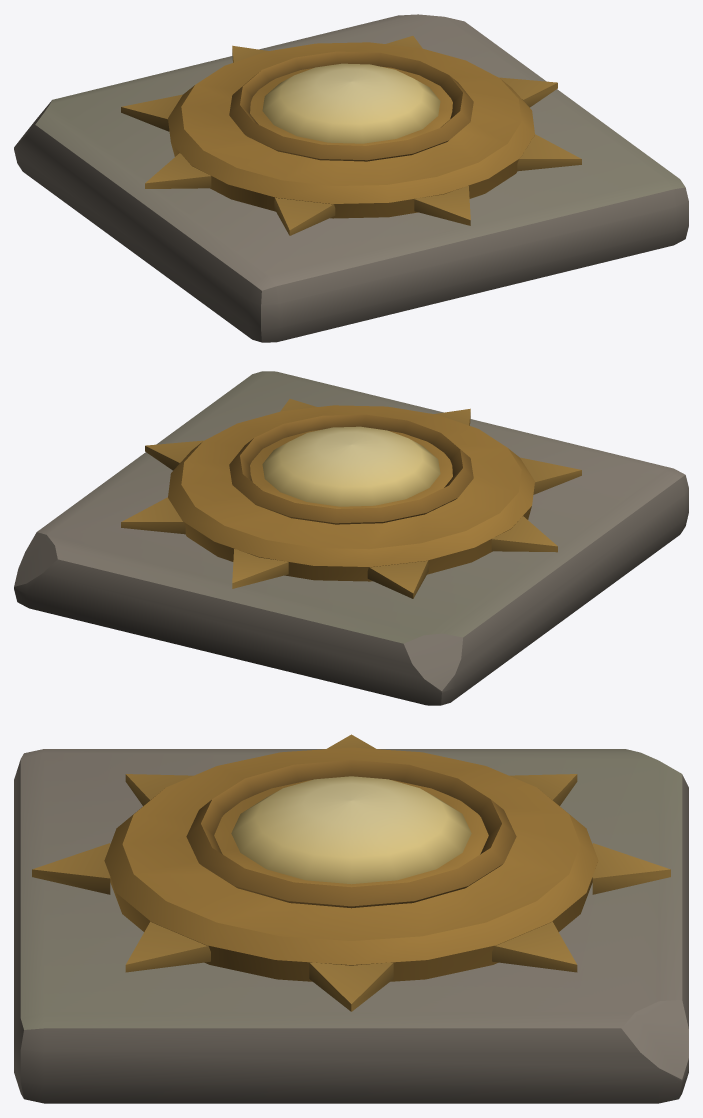
File: ruins-pc-target.glb
The picture shows the model from 3 angles, top to bottom: view 1: azimuth 30°, elevation 25°; view 2: azimuth 150°, elevation 25°; view 3: azimuth 270°, elevation 25°; orthographic projection. The views are drawn at different scales.
Visible parts, largest first — view 1: 0_ruins_pc_target, 1_glow; view 2: 0_ruins_pc_target, 1_glow; view 3: 0_ruins_pc_target, 1_glow.
Boxes of the visible parts, x1,y1,x2,y2 form: 0_ruins_pc_target: (14, 14, 688, 342); 1_glow: (262, 63, 440, 143); 0_ruins_pc_target: (14, 371, 688, 705); 1_glow: (262, 426, 440, 506); 0_ruins_pc_target: (14, 734, 688, 1103); 1_glow: (231, 776, 471, 884).
Bounding box in the file's own units: 0.56 × 0.1494 × 0.56.
